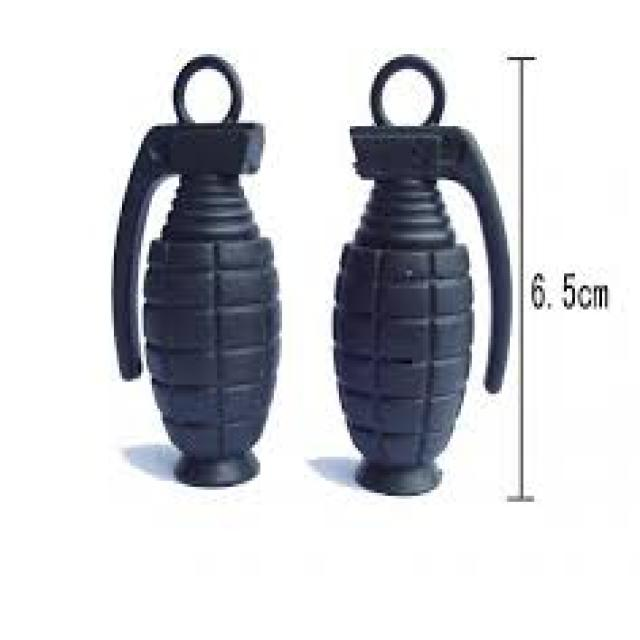grenade: (321, 50, 525, 499), (108, 50, 292, 489)
